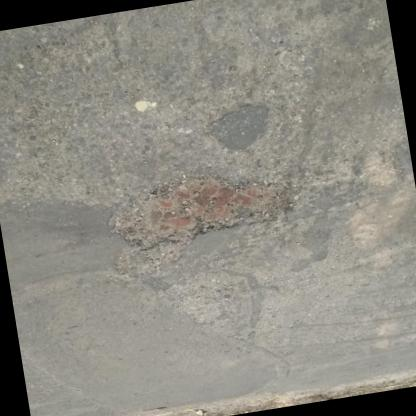pothole: (98, 158, 298, 256)
